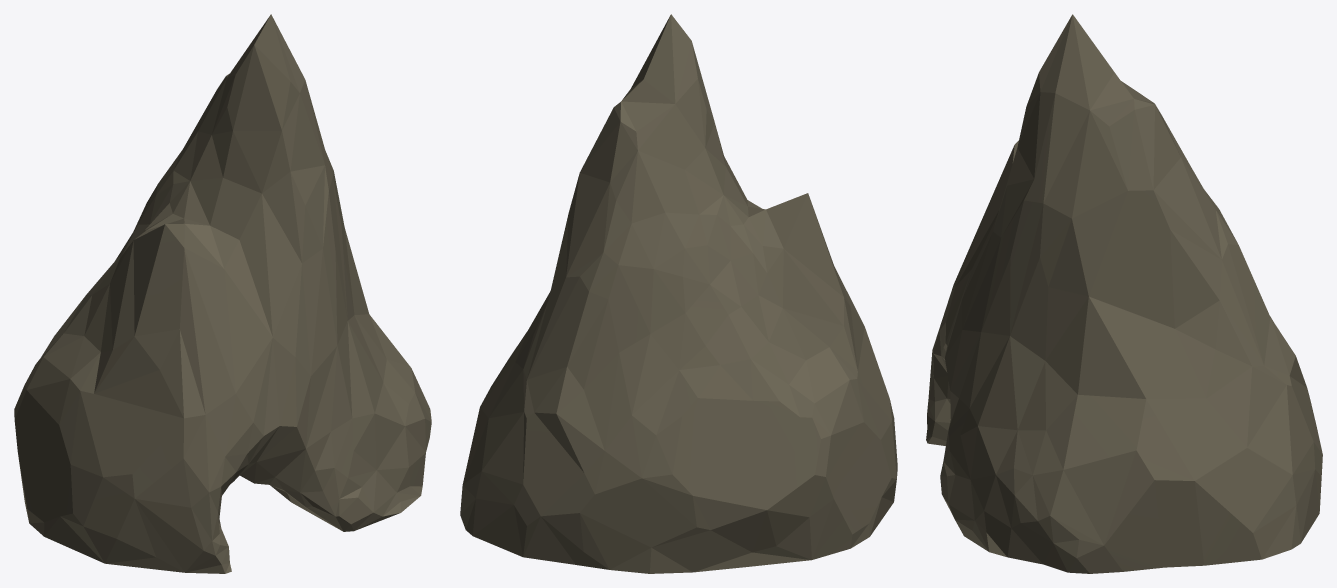
File: Cave_11.fbx
3 views of the same model, side by side, from view 1: azimuth 30°, elevation 25°; view 2: azimuth 150°, elevation 25°; view 3: azimuth 270°, elevation 25° (orthographic). The views are drawn at different scales.
Visible parts, largest first — view 1: Cave_11_LOD0; view 2: Cave_11_LOD0; view 3: Cave_11_LOD0.
Part boxes in pixels (box(x1,y1,x2,y2)): Cave_11_LOD0: box(14, 14, 431, 573); Cave_11_LOD0: box(460, 14, 897, 573); Cave_11_LOD0: box(926, 14, 1322, 573).
Size of what is drawn, in the model's own units: 11.56 by 14.2 by 10.55.
